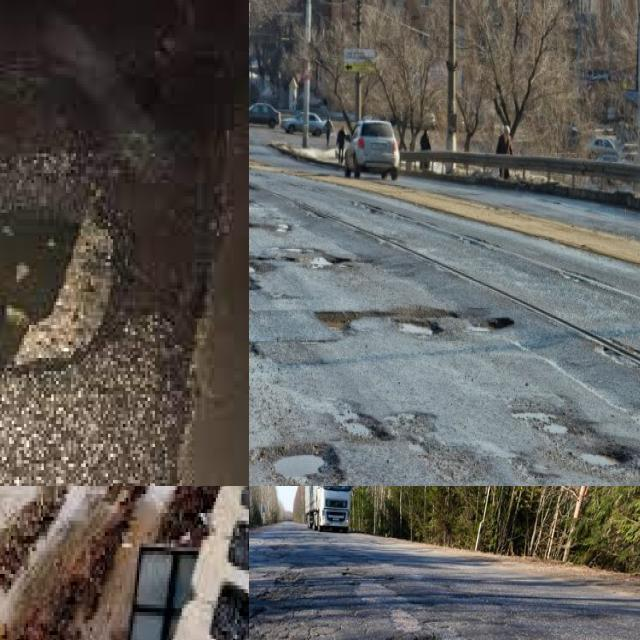Pothole: (0, 486, 105, 630), (90, 486, 179, 640), (0, 212, 75, 365), (274, 455, 342, 486), (298, 248, 349, 269), (354, 415, 391, 438), (316, 312, 356, 330), (402, 318, 443, 335), (581, 455, 623, 468), (539, 420, 571, 437), (484, 317, 513, 332), (249, 257, 263, 272)
